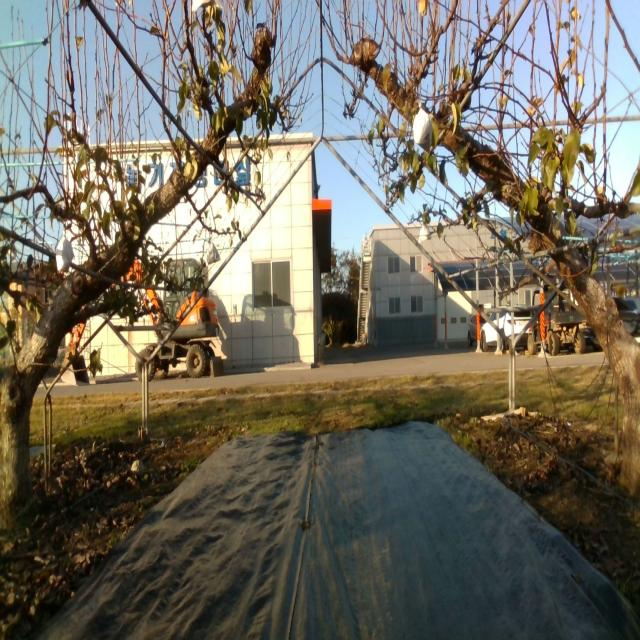pearbags: (412, 109, 433, 152), (55, 232, 74, 274), (206, 240, 221, 264), (417, 224, 432, 246)
